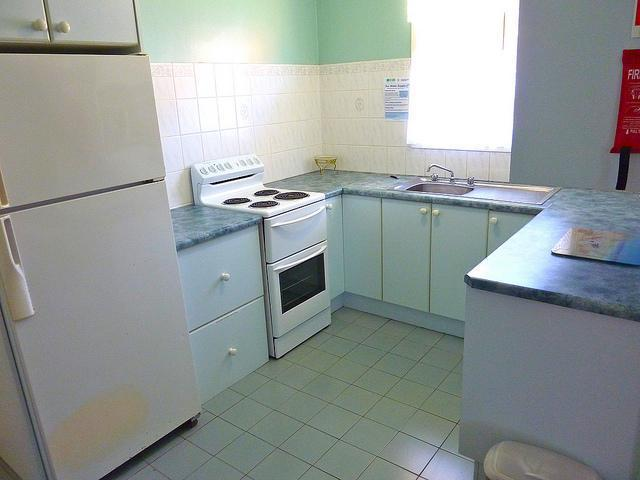Lavaplatos: (392, 162, 560, 209)
